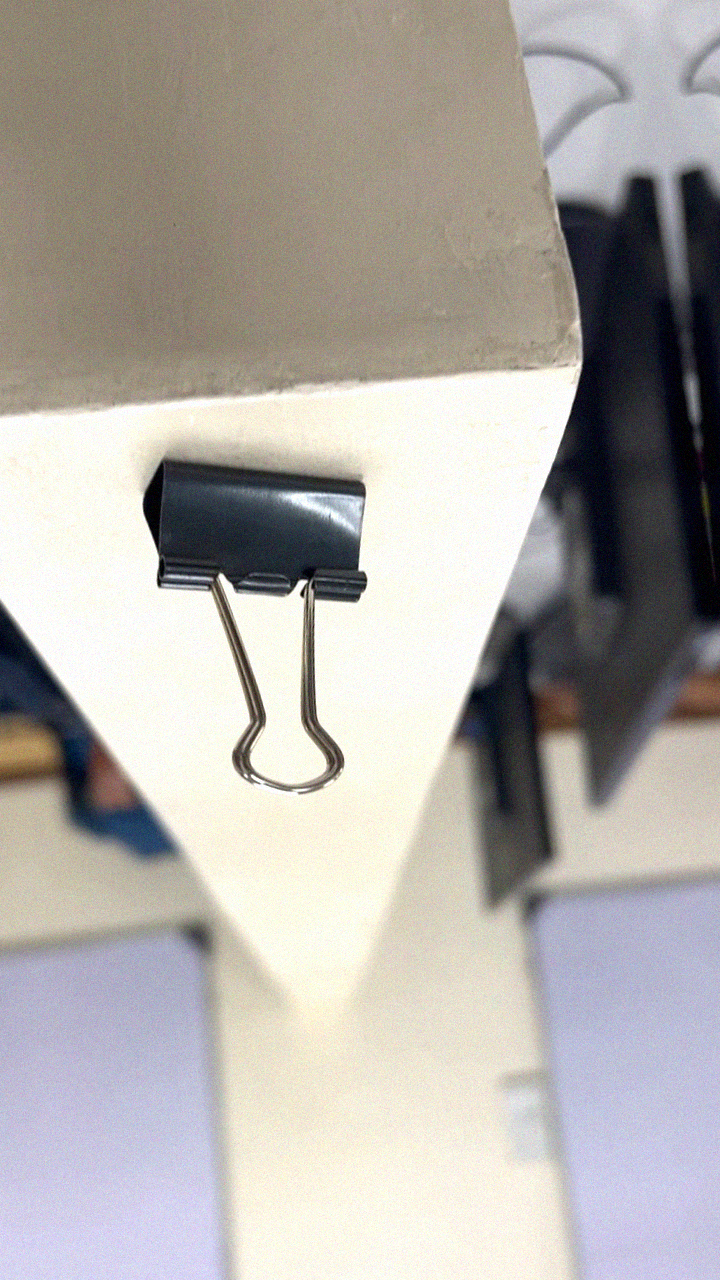kep_giay: (130, 439, 404, 814)
